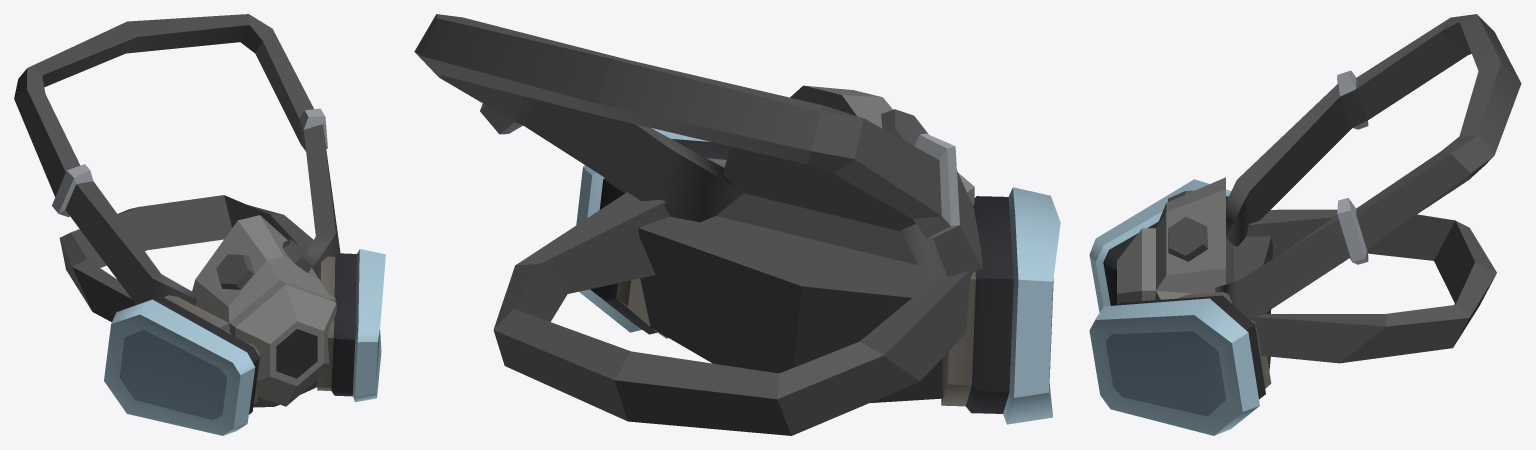
Rendered from SM_Chr_Attach_FilterMask_01.glb.
3 renders of one model, left to right at view 1: azimuth 30°, elevation 25°; view 2: azimuth 150°, elevation 25°; view 3: azimuth 270°, elevation 25°, orthographic. The views are drawn at different scales.
Parts seen in each view (by area): view 1: SM_Chr_Attach_FilterMask_01; view 2: SM_Chr_Attach_FilterMask_01; view 3: SM_Chr_Attach_FilterMask_01.
Boxes of the visible parts, bbox=[...] form: SM_Chr_Attach_FilterMask_01: bbox=[14, 14, 385, 435]; SM_Chr_Attach_FilterMask_01: bbox=[414, 14, 1060, 435]; SM_Chr_Attach_FilterMask_01: bbox=[1089, 14, 1521, 435].
Size of the model in its own units: 0.2853 by 0.2829 by 0.3427.
1 material, 1 textured.
